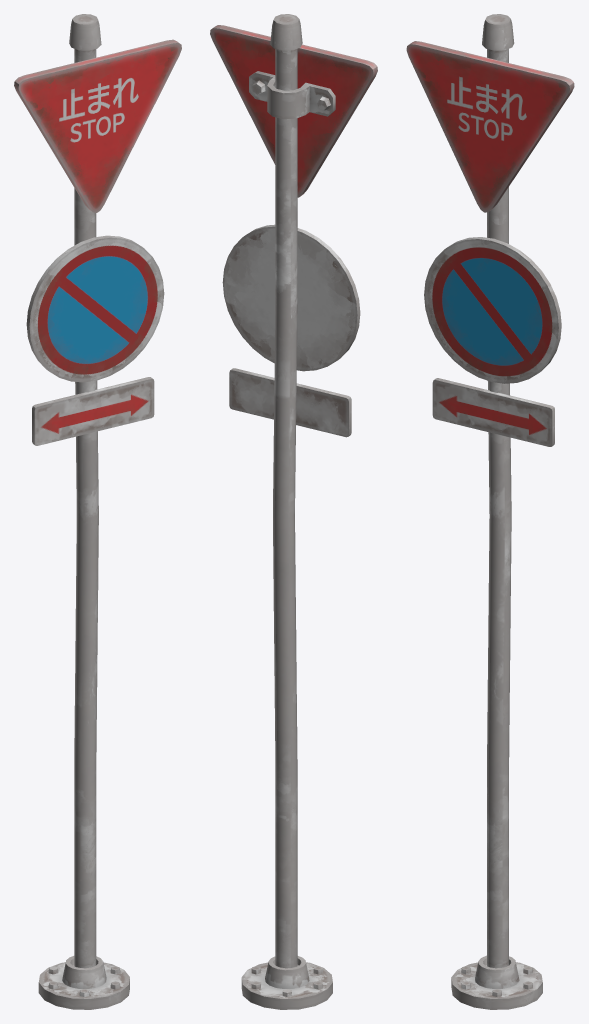
File: SM_roadsign_01.fbx
3 views of the same model, side by side, from view 1: azimuth 30°, elevation 25°; view 2: azimuth 150°, elevation 25°; view 3: azimuth 330°, elevation 25° (orthographic).
Parts seen in each view (by area): view 1: Object32299; view 2: Object32299; view 3: Object32299.
Boxes of the visible parts, x1,y1,x2,y2 form: Object32299: (14, 14, 181, 1009); Object32299: (210, 14, 377, 1009); Object32299: (406, 14, 574, 1009).
Bounding box in the file's own units: 23.33 × 132 × 11.39.
